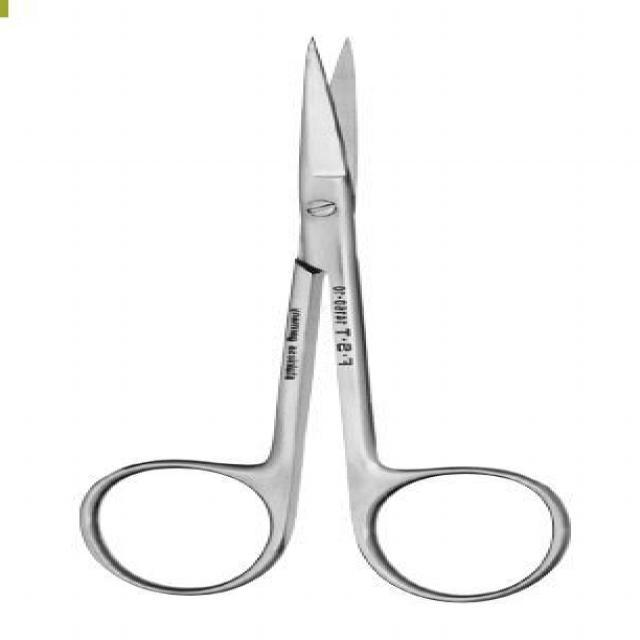Iris: (76, 34, 580, 606)
